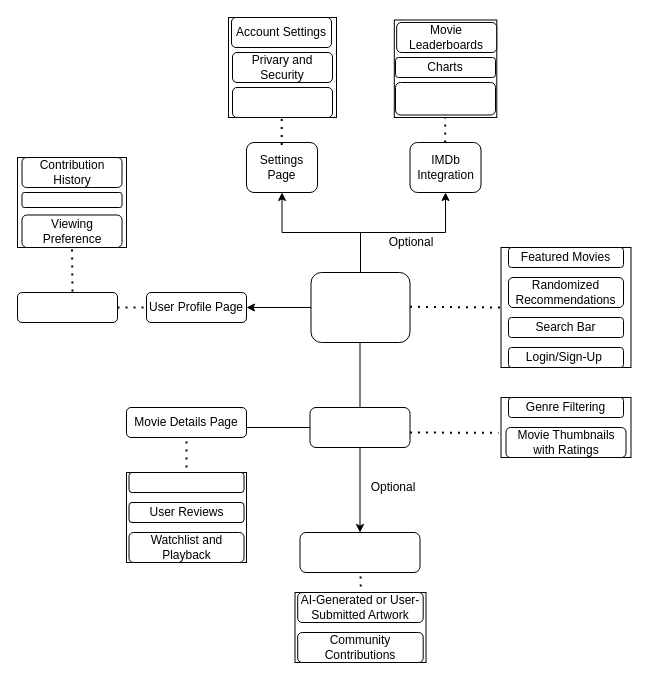
Some shapes in this 649 by 680 pixel diagram are drawn without their labels. The box of each missing label's shape, as (x1, y1, x2, y2) in pixels:
Art and Creativity Hub: (299, 532, 420, 572)
Home Page 🏠: (310, 272, 410, 342)
Library Page: (309, 406, 410, 448)
Personal Information: (16, 292, 118, 322)
Plot Interpretations: (128, 472, 244, 492)
UI Customization: (232, 86, 332, 118)
Viewing Preferences: (394, 82, 496, 115)
Watchlist: (21, 192, 122, 208)
